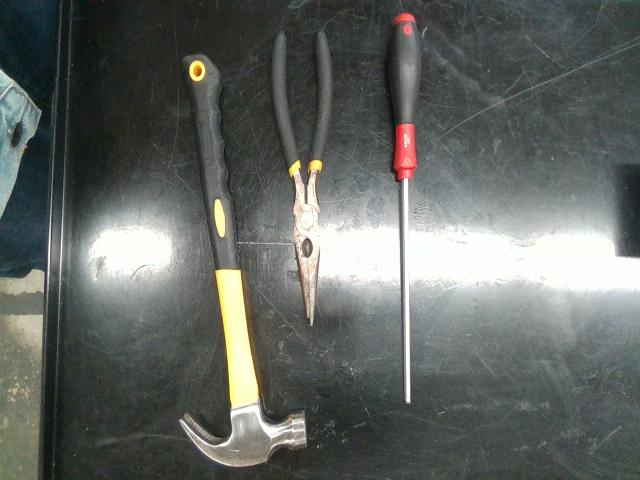Hammer: (180, 55, 306, 467)
Needle-nose pliers: (271, 28, 332, 324)
Screwdriver: (389, 13, 421, 403)
